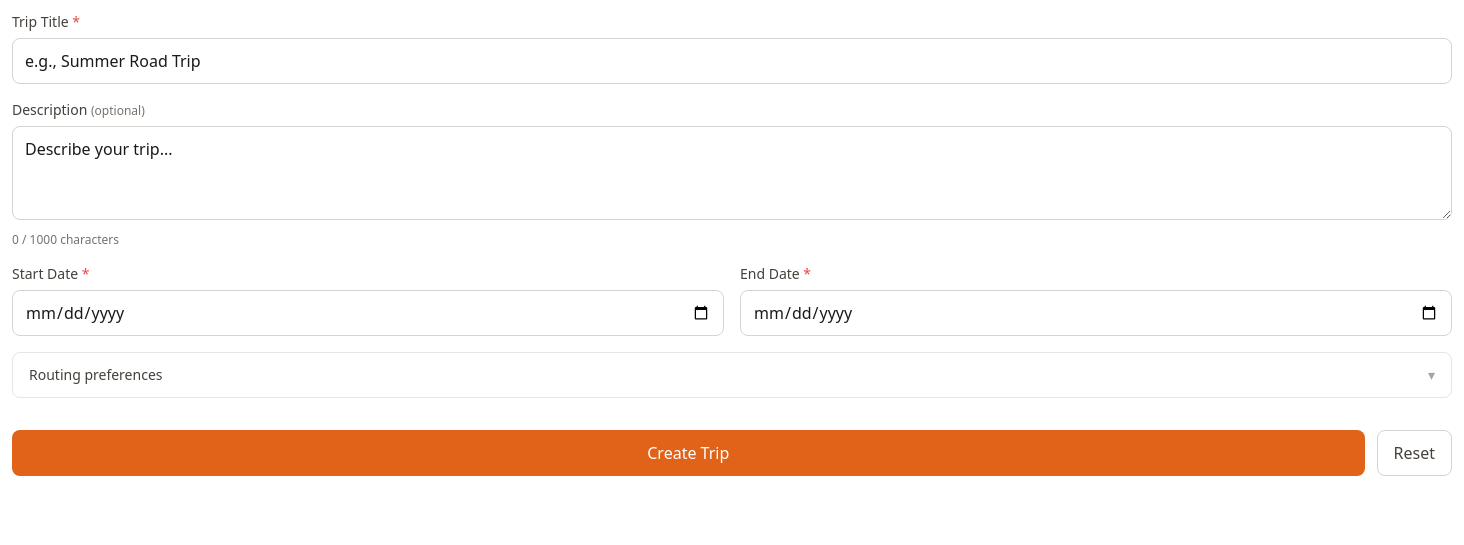
Test: TripForm Component › Form Reset › should clear validation errors when reset
# Submit to trigger errors
Click the button "Create Trip" at (688, 453), box [12,430,1364,476]
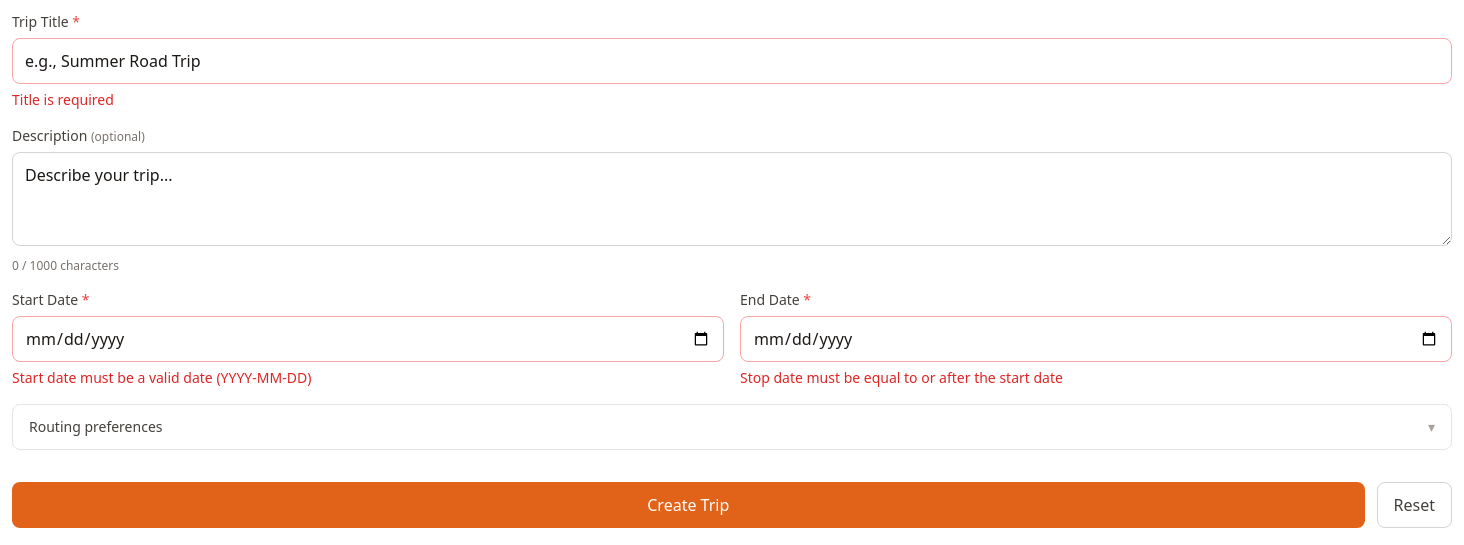
Now the text "Title is required" is shown, box [12,90,114,109]
# Click reset
Click the button "Reset" at (1414, 505), box [1376,482,1452,528]
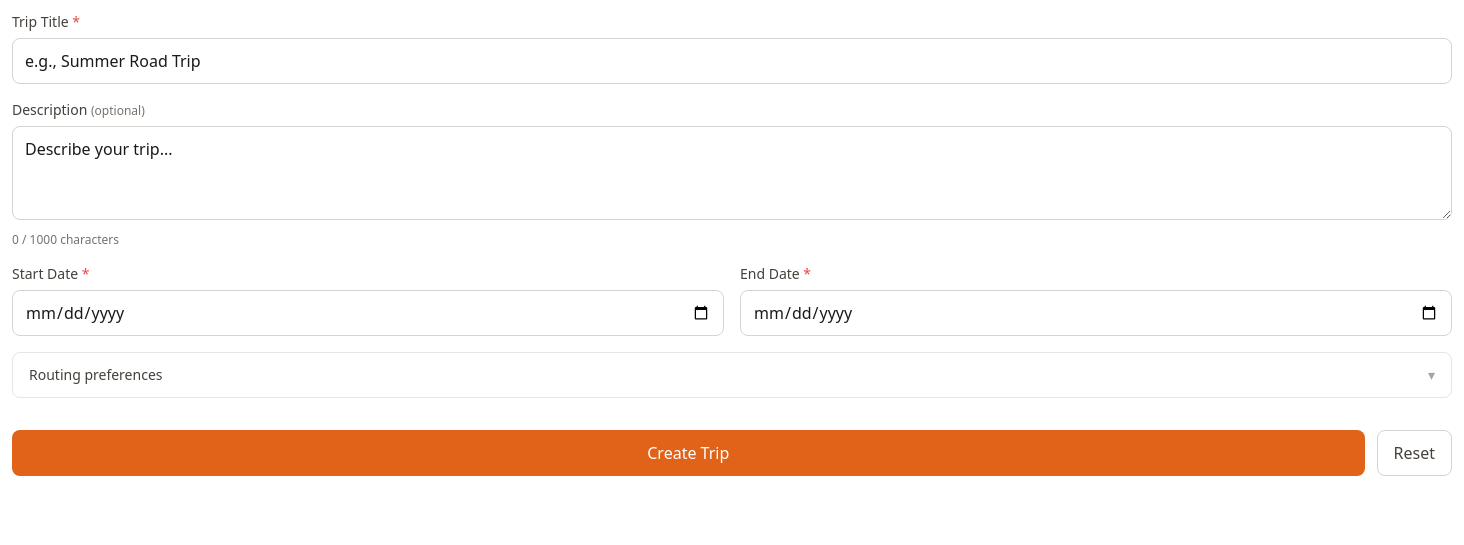
Now the text "Title is required" is gone
